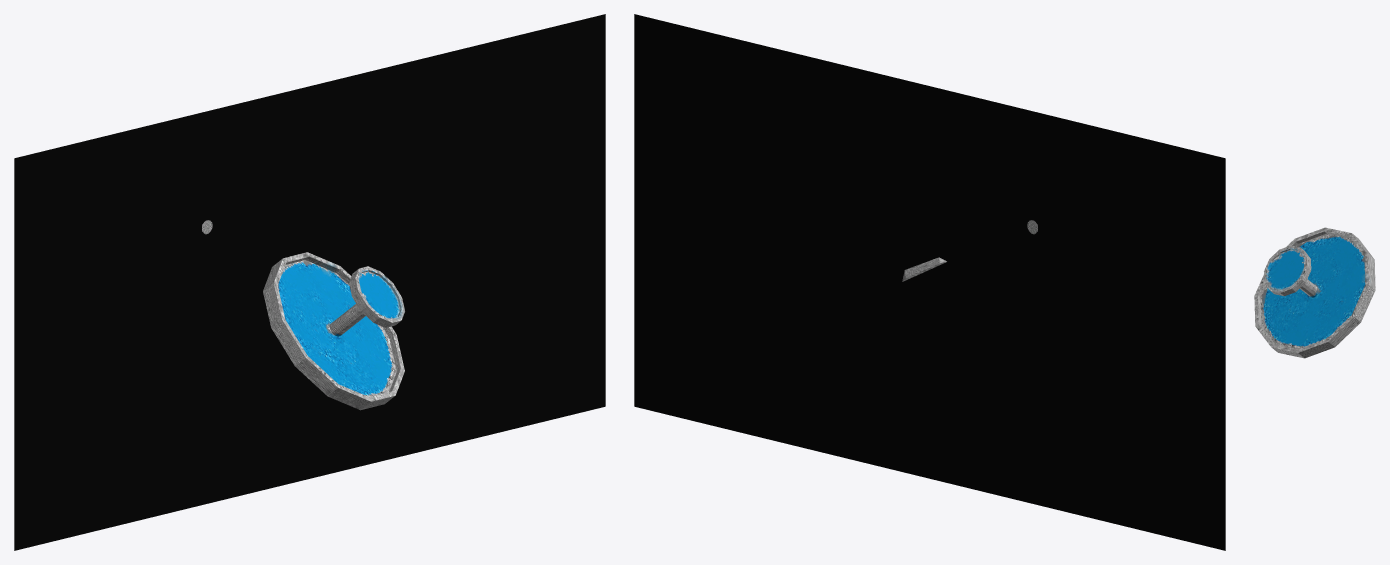
Rendered from fountain.fbx.
The picture shows the model from 3 angles, left to right: view 1: azimuth 30°, elevation 25°; view 2: azimuth 150°, elevation 25°; view 3: azimuth 270°, elevation 25°; orthographic projection. The views are drawn at different scales.
Visible parts, largest first — view 1: root, node_id28; view 2: root; view 3: node_id28.
Boxes of the visible parts, x1,y1,x2,y2 form: root: (14,14,605,550); node_id28: (263,252,404,410); root: (634,14,1225,550); node_id28: (1254,227,1375,358).
Size of the model in its own units: 1.97 by 1.25 by 0.4431.
2 materials, 2 textured.
